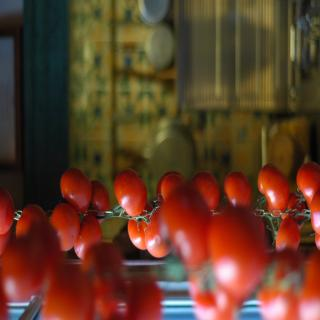tomato: (109, 168, 149, 221), (255, 164, 290, 217), (59, 166, 93, 212), (51, 200, 80, 248), (190, 169, 220, 214), (294, 162, 320, 209), (154, 168, 182, 209), (222, 169, 252, 206), (16, 203, 46, 236), (301, 189, 320, 231), (90, 180, 108, 222), (0, 186, 14, 233), (161, 175, 183, 202)
